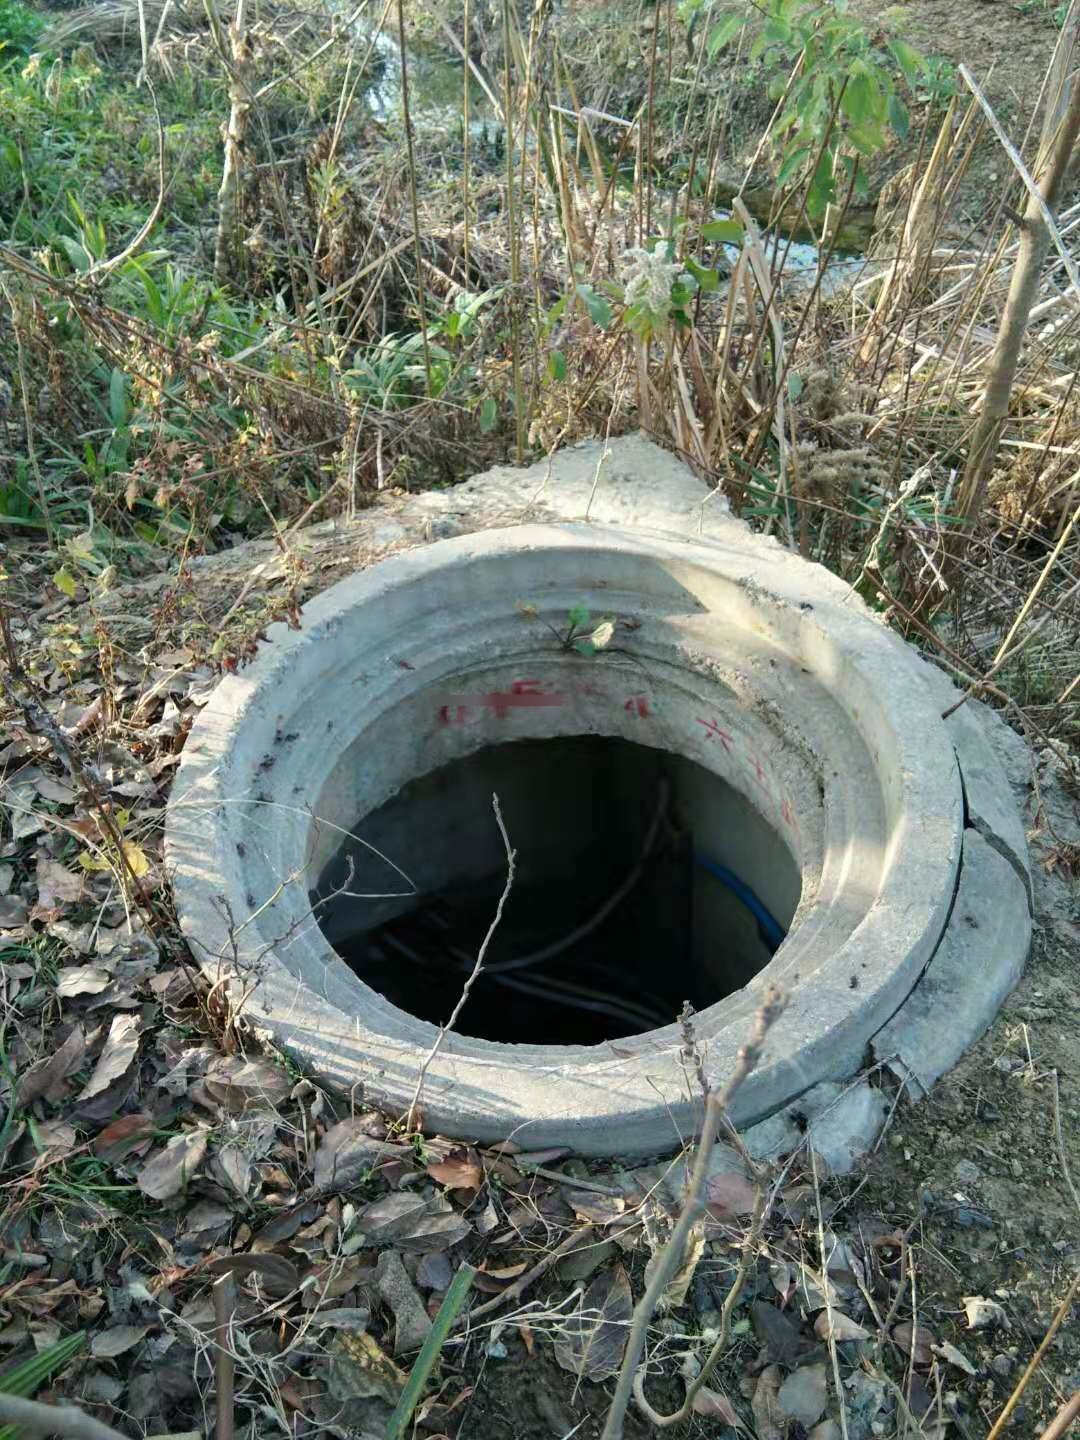lose: (164, 519, 967, 1164)
